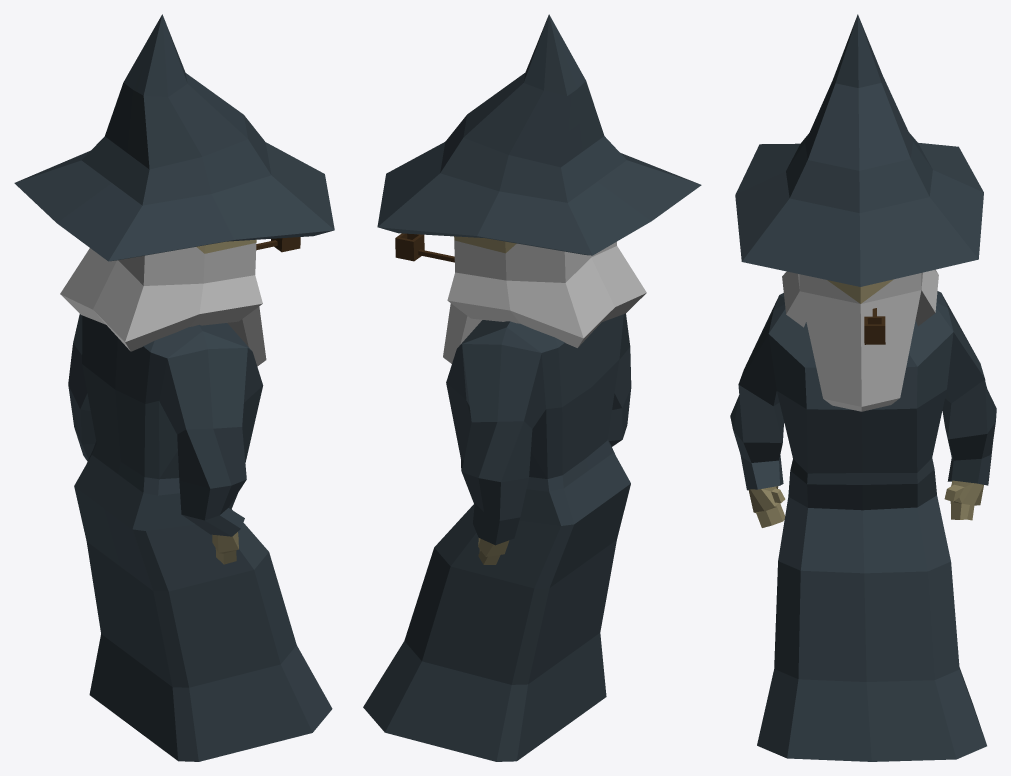
The picture shows the model from 3 angles, left to right: view 1: azimuth 30°, elevation 25°; view 2: azimuth 150°, elevation 25°; view 3: azimuth 270°, elevation 25°; orthographic projection. The views are drawn at different scales.
Parts seen in each view (by area): view 1: wizzard; view 2: wizzard; view 3: wizzard.
Boxes of the visible parts, left/top/right/bottom form: wizzard: left=14, top=14, right=334, bottom=761; wizzard: left=363, top=14, right=701, bottom=761; wizzard: left=730, top=14, right=996, bottom=761.
Size of the model in its own units: 71.73 by 182 by 63.4.
Materials: 1 (1 with a texture image).
